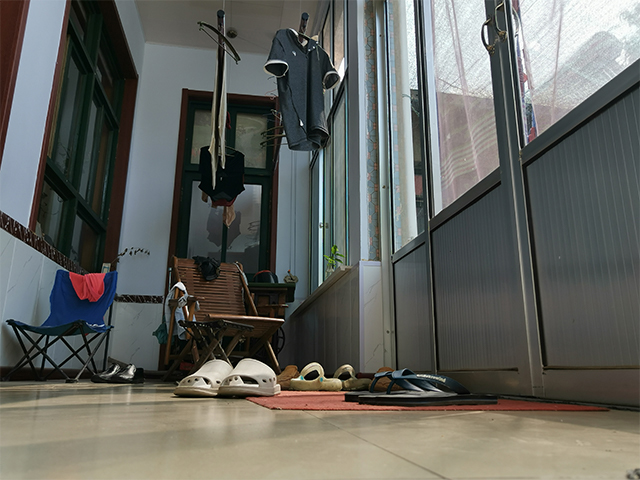carpet: (243, 389, 611, 411)
slippers: (362, 366, 495, 406), (288, 360, 373, 393), (217, 356, 284, 397), (175, 356, 242, 397)
stool: (159, 255, 282, 380), (4, 269, 119, 384), (177, 318, 255, 375)
